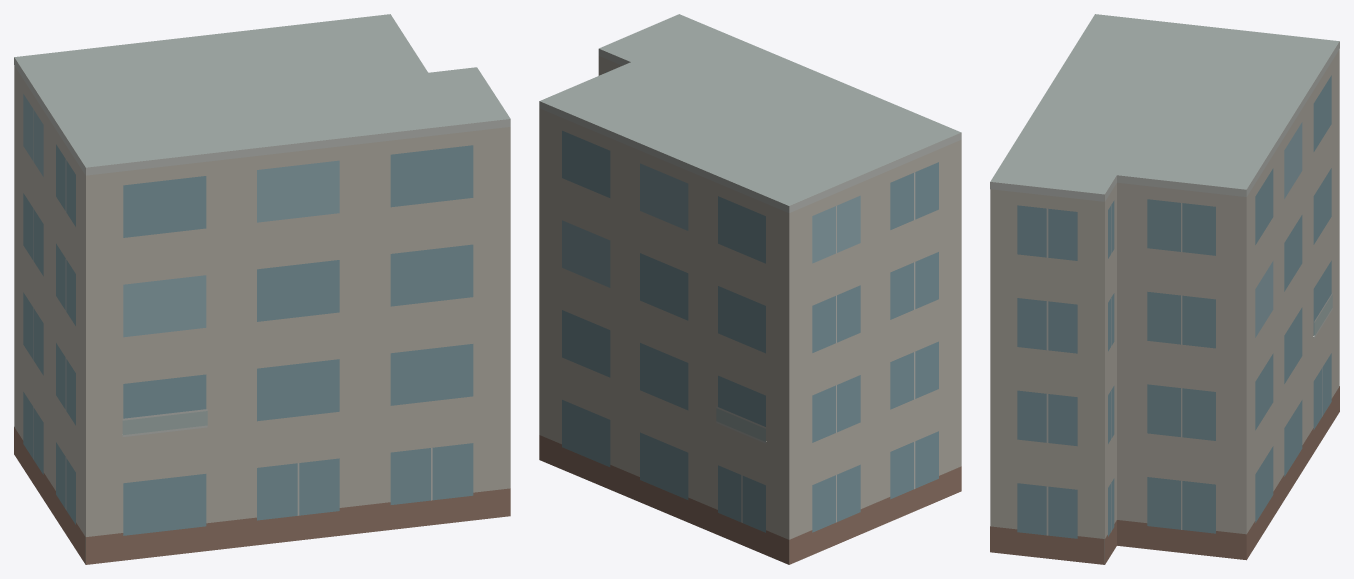
Rendered from survey-upis-32753884.glb.
3 views of the same model, side by side, from view 1: azimuth 30°, elevation 25°; view 2: azimuth 150°, elevation 25°; view 3: azimuth 270°, elevation 25° (orthographic). The views are drawn at different scales.
Visible parts, largest first — view 1: survey-upis-32753884.tmp; view 2: survey-upis-32753884.tmp; view 3: survey-upis-32753884.tmp.
Part boxes in pixels (x1,y1,x2,y2): survey-upis-32753884.tmp: (14, 14, 510, 564); survey-upis-32753884.tmp: (539, 14, 961, 564); survey-upis-32753884.tmp: (990, 14, 1339, 564).
Size of the model in its own units: 12.76 by 12.2 by 10.45.
